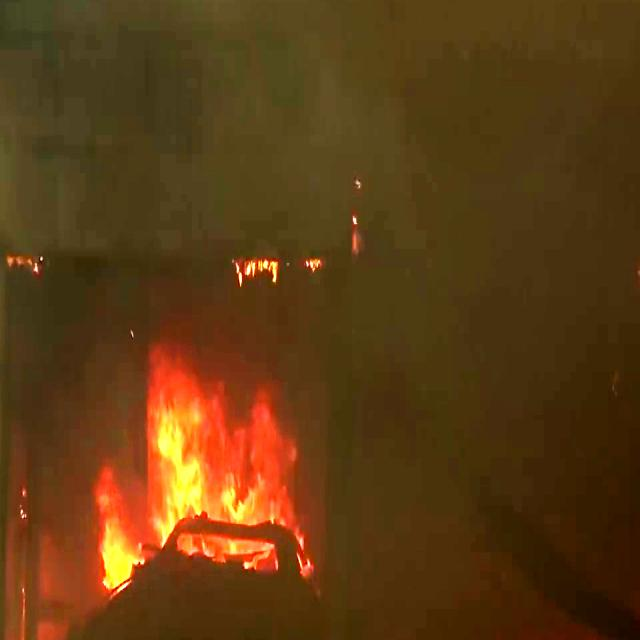fire: (125, 359, 317, 572)
smoke: (323, 0, 556, 185)
